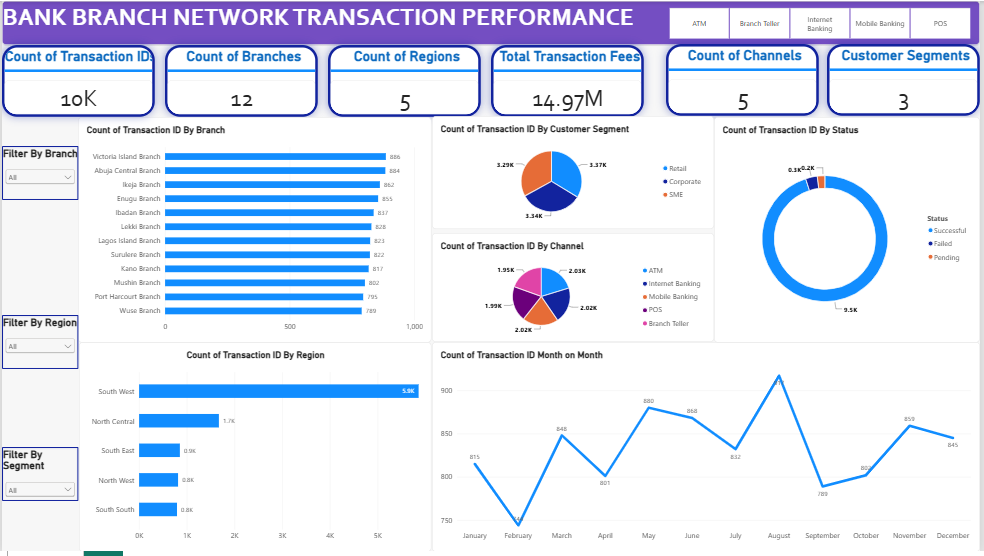

The page's visual inventory and layout, read from the dashboard file:
{"tool":"powerbi","page":{"name":"Page 1","canvas":[1920,1080],"ordinal":0},"visuals":[{"type":"textbox","box":[0,0,1919.8,86],"z":0},{"type":"cardVisual","title":"Total Transaction Fees","fields":{"Data":["Sum(Nigerian_Bank_Raw_Transactions_10000. FeeNGN )"]},"box":[960,85.7,300,141.1],"z":1000},{"type":"cardVisual","title":"Count of Regions","fields":{"Data":["Count(Nigerian_Bank_Raw_Transactions_10000.Region)"]},"box":[640,85.7,300,141.1],"z":2000},{"type":"cardVisual","title":"Count of Branches","fields":{"Data":["Count(Nigerian_Bank_Raw_Transactions_10000.BranchName)"]},"box":[320,85.7,300,141.1],"z":3000},{"type":"cardVisual","title":"Count of Channels","fields":{"Data":["Count(Nigerian_Bank_Raw_Transactions_10000.Channel)"]},"box":[1304.6,85.2,300,141.1],"z":4000},{"type":"cardVisual","title":"Customer Segments","fields":{"Data":["Count(Nigerian_Bank_Raw_Transactions_10000.CustomerSegment)"]},"box":[1619.5,85.2,300,141.1],"z":5000},{"type":"columnChart","title":"Share of Transactions by Region (South West has 7 of 12 branches)","fields":{"Category":["Nigerian_Bank_Raw_Transactions_10000.Region"],"Series":["Nigerian_Bank_Raw_Transactions_10000.Region"],"Y":["Divide(CountNonNull(Nigerian_Bank_Raw_Transactions_10000.TransactionID), ScopedEval(CountNonNull(Nigerian_Bank_Raw_Trans"]},"box":[152.1,227,786.9,339.4],"z":6000},{"type":"lineChart","title":"Monthly Transactions, 2025 (dashed line = monthly average)","fields":{"Category":["Nigerian_Bank_Raw_Transactions_10000.ValueDate.Variation.Date Hierarchy.Month"],"Y":["CountNonNull(Nigerian_Bank_Raw_Transactions_10000.TransactionID)"]},"box":[938.9,670,980.8,412.2],"z":7000},{"type":"barChart","title":"Transactions per Branch, by Region","fields":{"Category":["Nigerian_Bank_Raw_Transactions_10000.BranchName"],"Series":["Nigerian_Bank_Raw_Transactions_10000.Region"],"Y":["CountNonNull(Nigerian_Bank_Raw_Transactions_10000.TransactionID)"]},"box":[149.9,566.4,789.1,513.6],"z":8000},{"type":"columnChart","title":"Transaction Status (% of total)","fields":{"Category":["Nigerian_Bank_Raw_Transactions_10000.Status"],"Y":["CountNonNull(Nigerian_Bank_Raw_Transactions_10000.TransactionID)"]},"box":[1494.4,227,425.4,443],"z":9000},{"type":"pieChart","title":" Transactions by Customer Segment","fields":{"Category":["Nigerian_Bank_Raw_Transactions_10000.CustomerSegment"],"Y":["CountNonNull(Nigerian_Bank_Raw_Transactions_10000.TransactionID)"]},"box":[938.9,227,554.3,221.7],"z":10000},{"type":"pieChart","title":"Transactions by Channel","fields":{"Category":["Nigerian_Bank_Raw_Transactions_10000.Channel"],"Y":["CountNonNull(Nigerian_Bank_Raw_Transactions_10000.TransactionID)"]},"box":[938.9,449.6,555.4,220.4],"z":11000},{"type":"cardVisual","title":"Transactions","fields":{"Data":["CountNonNull(Nigerian_Bank_Raw_Transactions_10000.CustomerID)"]},"box":[0,85.7,300,141.1],"z":12000},{"type":"slicer","title":"Filter By Region","fields":{"Values":["Nigerian_Bank_Raw_Transactions_10000.Region"]},"box":[0,617.1,149.9,105.8],"z":13000},{"type":"slicer","title":"Filter By Segment","fields":{"Values":["Nigerian_Bank_Raw_Transactions_10000.CustomerSegment"]},"box":[0,875,149.9,105.8],"z":14000},{"type":"slicer","title":"Filter By Channel","fields":{"Values":["Nigerian_Bank_Raw_Transactions_10000.Channel"]},"box":[1289.4,11,629.8,64.3],"z":15000},{"type":"slicer","title":"Filter By Branch","fields":{"Values":["Nigerian_Bank_Raw_Transactions_10000.BranchName"]},"box":[0,284.9,149.9,105.8],"z":16000}]}

Visuals, with their boxes in screenshot pixels (x1, y1, x2, y2), scaled from the page's 1920x1080 canvas onto the 984x556 screenshot:
textbox: pyautogui.locateOnScreen(0, 0, 983, 44)
"Total Transaction Fees" cardVisual: pyautogui.locateOnScreen(492, 44, 646, 117)
"Count of Regions" cardVisual: pyautogui.locateOnScreen(328, 44, 482, 117)
"Count of Branches" cardVisual: pyautogui.locateOnScreen(164, 44, 318, 117)
"Count of Channels" cardVisual: pyautogui.locateOnScreen(669, 44, 822, 117)
"Customer Segments" cardVisual: pyautogui.locateOnScreen(830, 44, 983, 117)
"Share of Transactions by Region (South West has 7 of 12 branches)" columnChart: pyautogui.locateOnScreen(78, 117, 481, 292)
"Monthly Transactions, 2025 (dashed line = monthly average)" lineChart: pyautogui.locateOnScreen(481, 345, 983, 555)
"Transactions per Branch, by Region" barChart: pyautogui.locateOnScreen(77, 292, 481, 555)
"Transaction Status (% of total)" columnChart: pyautogui.locateOnScreen(766, 117, 983, 345)
" Transactions by Customer Segment" pieChart: pyautogui.locateOnScreen(481, 117, 765, 231)
"Transactions by Channel" pieChart: pyautogui.locateOnScreen(481, 231, 766, 345)
"Transactions" cardVisual: pyautogui.locateOnScreen(0, 44, 154, 117)
"Filter By Region" slicer: pyautogui.locateOnScreen(0, 318, 77, 372)
"Filter By Segment" slicer: pyautogui.locateOnScreen(0, 450, 77, 505)
"Filter By Channel" slicer: pyautogui.locateOnScreen(661, 6, 983, 39)
"Filter By Branch" slicer: pyautogui.locateOnScreen(0, 147, 77, 201)
